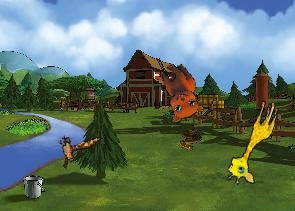bear: (145, 57, 211, 128)
eagle: (47, 118, 103, 177)
giraffe: (223, 94, 281, 189)
